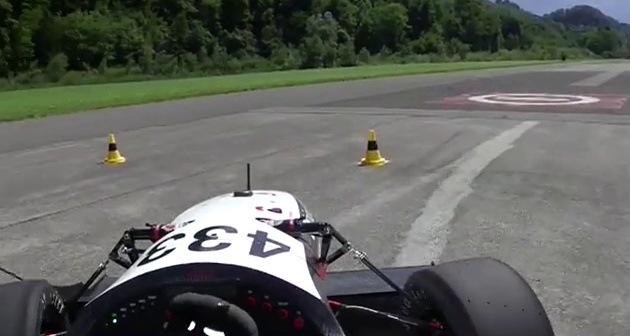Cone: (358, 129, 392, 170), (101, 133, 129, 166)
